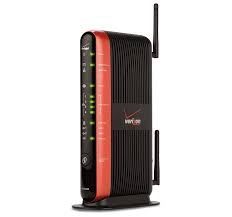Verizon Router: (73, 12, 175, 215)
